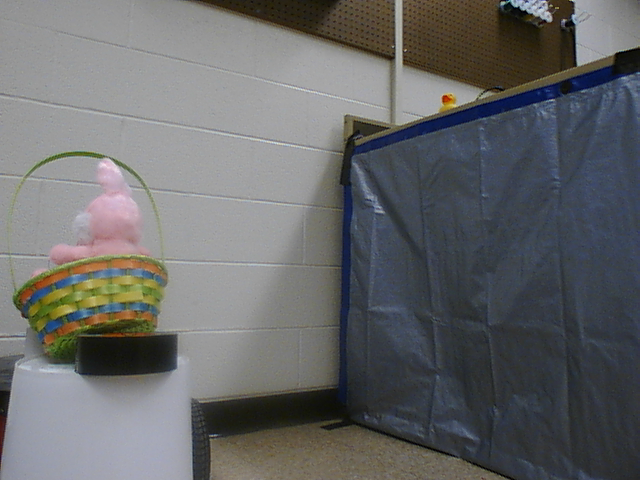bunny: (1, 152, 179, 363)
